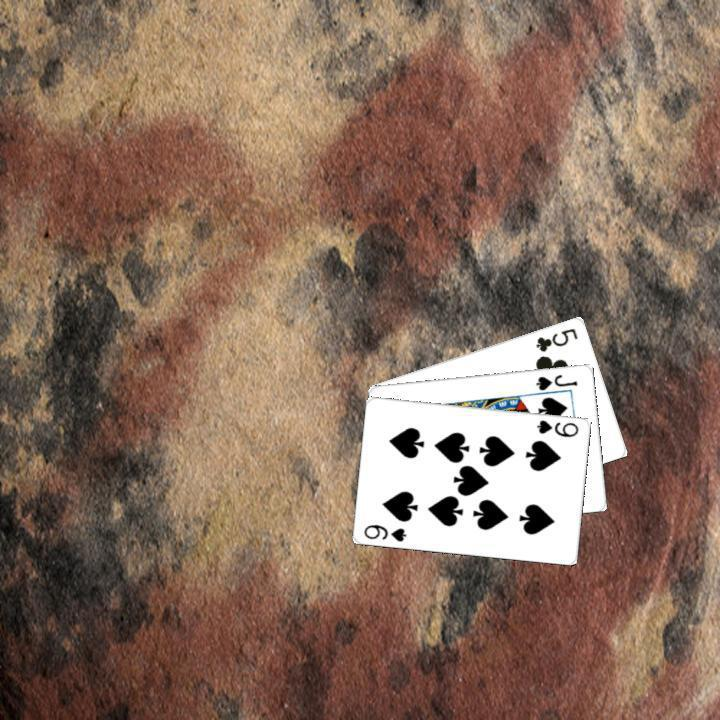5: (532, 323, 580, 354)
9: (533, 415, 581, 439), (360, 520, 408, 543)
J: (532, 369, 579, 392)
